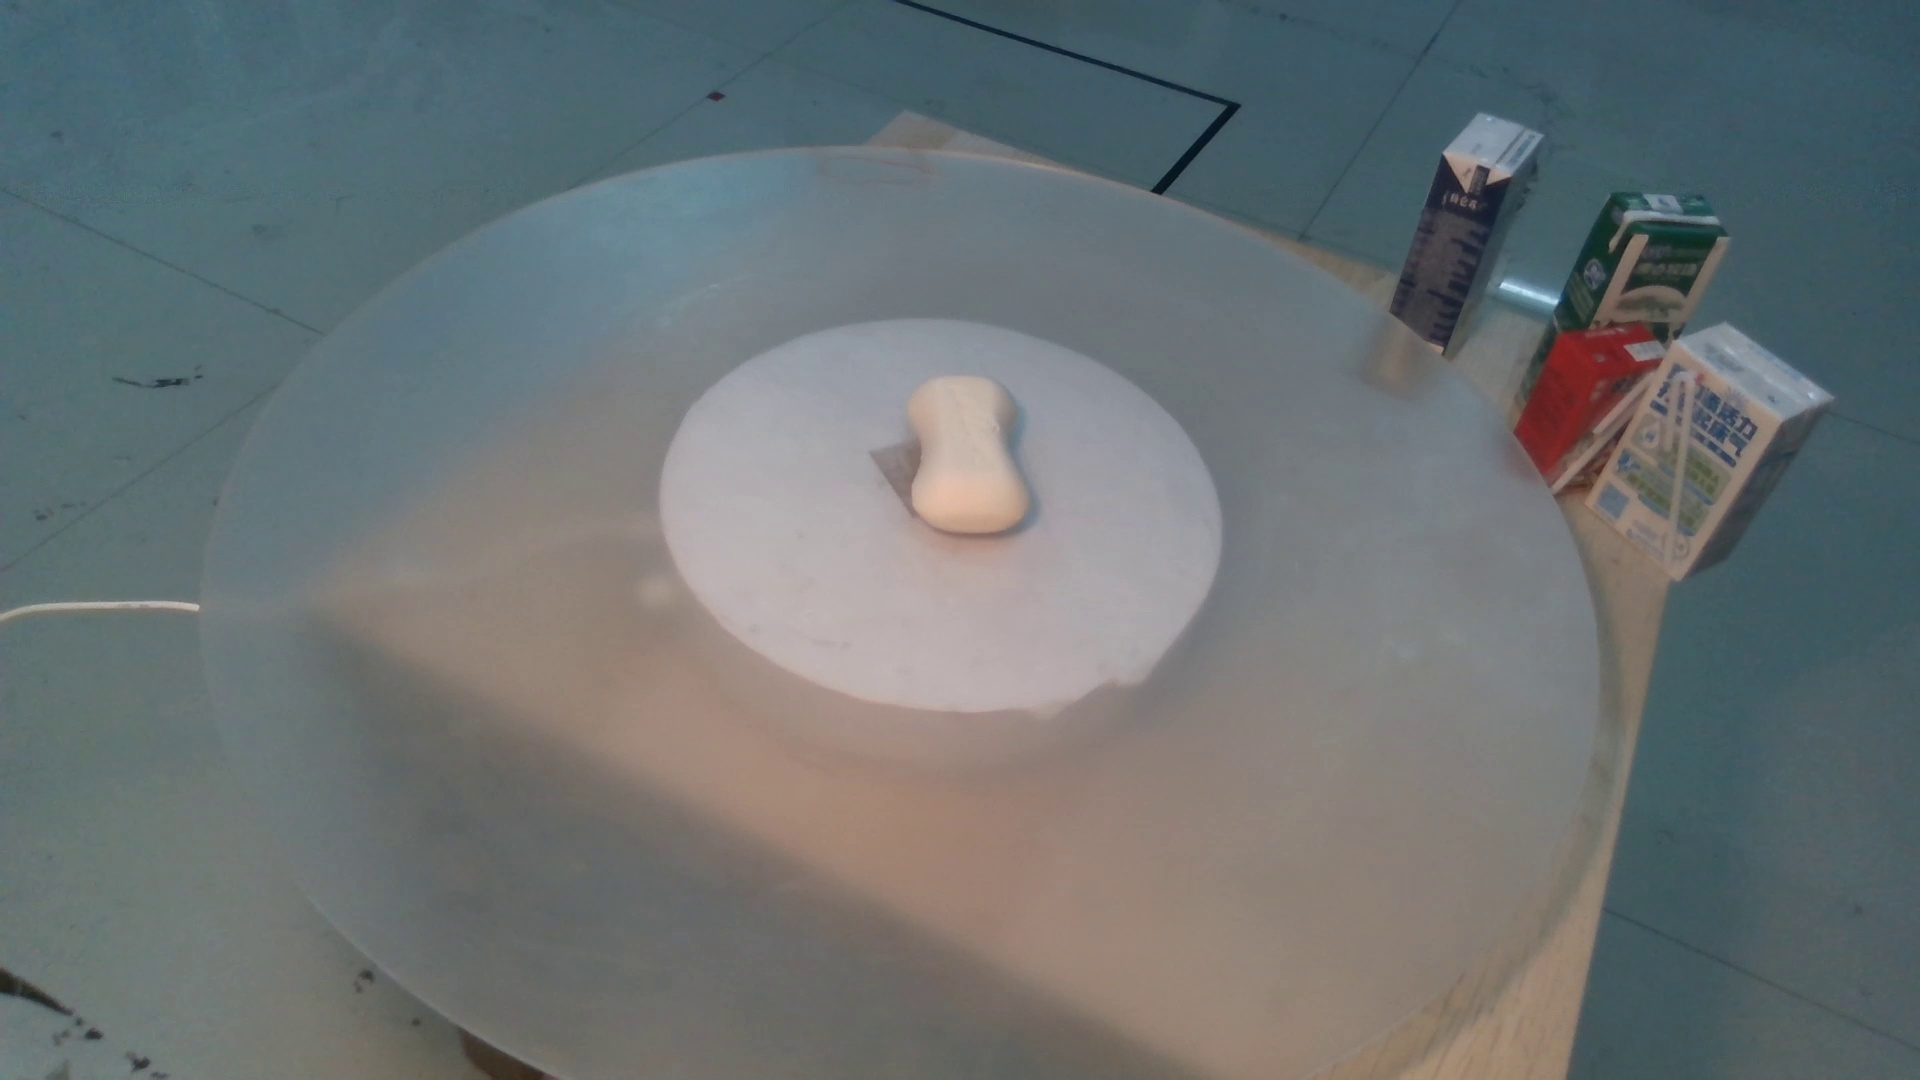CA003_1: (861, 373, 1087, 545)
